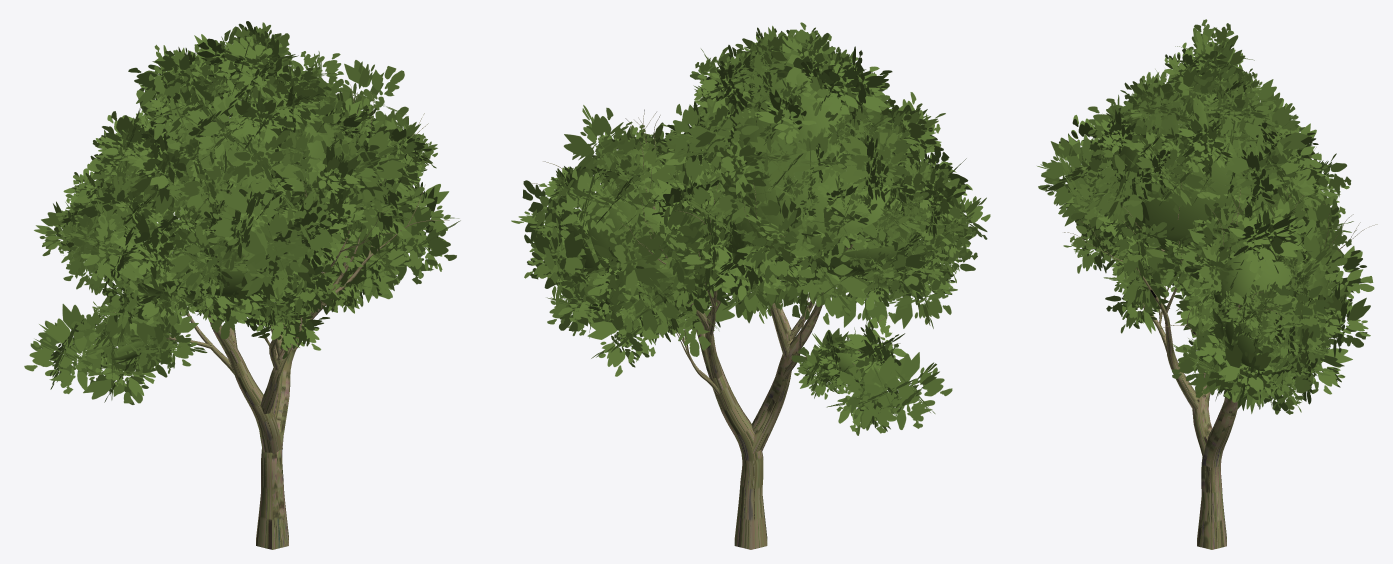
The model's file is LO_Tree_Lemon.glb.
3 renders of one model, left to right at view 1: azimuth 30°, elevation 25°; view 2: azimuth 150°, elevation 25°; view 3: azimuth 270°, elevation 25°, orthographic. The views are drawn at different scales.
Visible parts, largest first — view 1: leavesSphere_Sample01, treeTrunk_Sample01; view 2: leavesSphere_Sample01, treeTrunk_Sample01; view 3: leavesSphere_Sample01, treeTrunk_Sample01.
Part boxes in pixels (bbox=[...]): leavesSphere_Sample01: bbox=[24, 21, 460, 404]; treeTrunk_Sample01: bbox=[100, 84, 449, 549]; leavesSphere_Sample01: bbox=[511, 22, 990, 435]; treeTrunk_Sample01: bbox=[531, 109, 900, 549]; leavesSphere_Sample01: bbox=[1037, 19, 1374, 414]; treeTrunk_Sample01: bbox=[1064, 137, 1377, 549].
Bounding box in the file's own units: 6.11 × 7.16 × 4.69.
2 materials, 2 textured.
